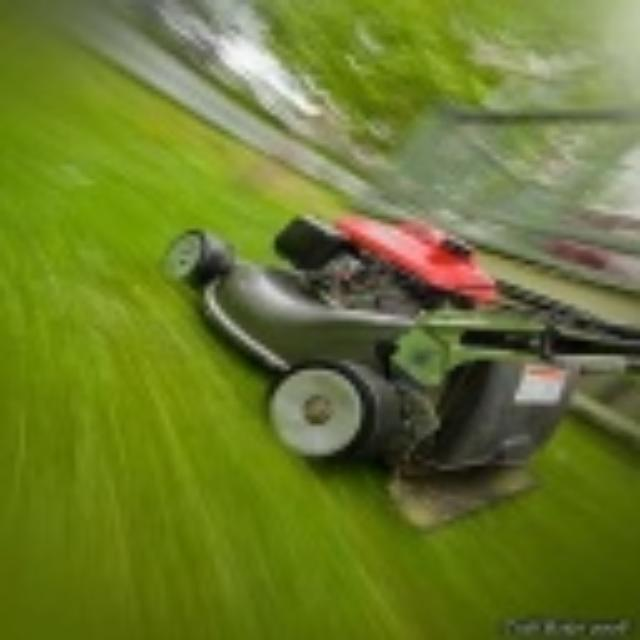Rotary-Mower: (160, 205, 636, 530)
